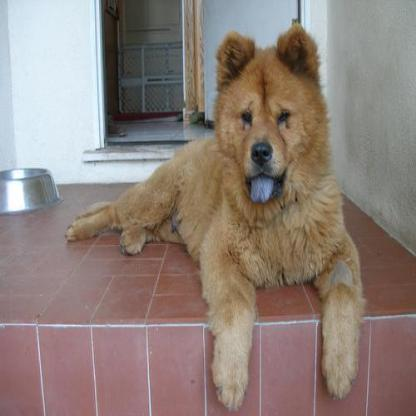chow: (66, 26, 364, 410)
